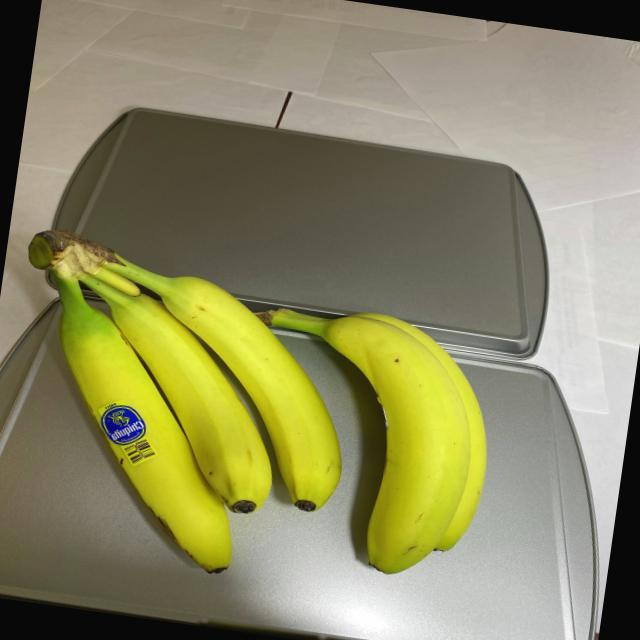banana: (0, 224, 517, 613)
